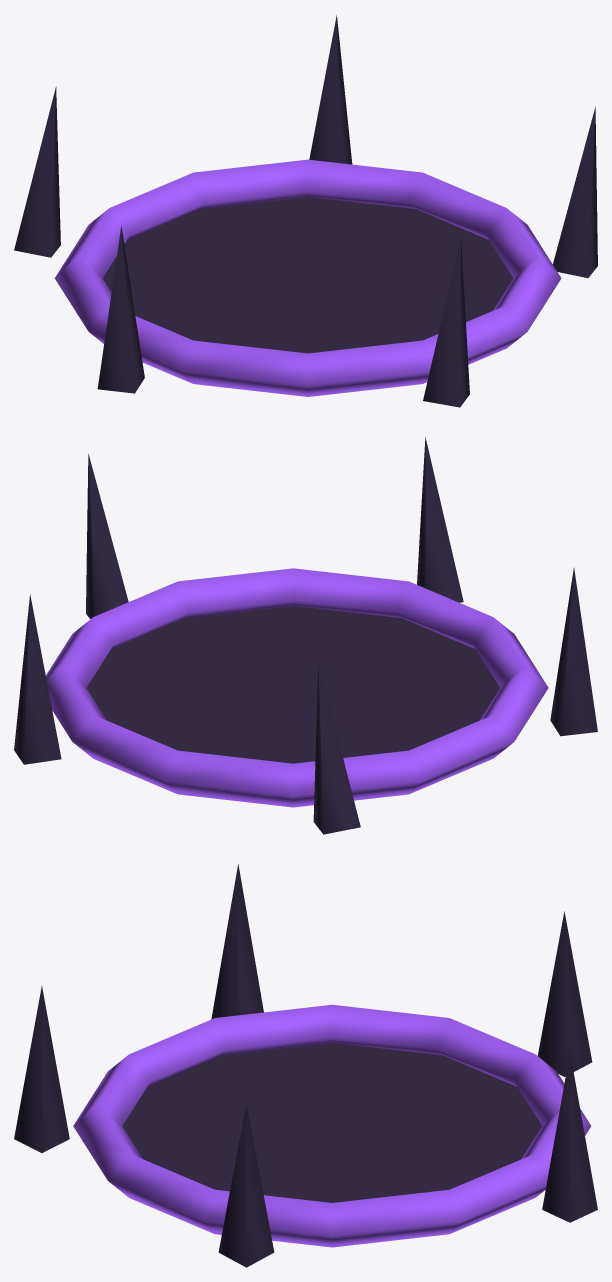
File: portal.glb
3 views of the same model, one above another, from view 1: azimuth 30°, elevation 25°; view 2: azimuth 150°, elevation 25°; view 3: azimuth 270°, elevation 25° (orthographic). The views are drawn at different scales.
Visible parts, largest first — view 1: portal; view 2: portal; view 3: portal.
Part boxes in pixels (left/top/right/bottom): portal: left=14, top=15, right=597, bottom=407; portal: left=14, top=437, right=597, bottom=834; portal: left=14, top=864, right=597, bottom=1267.
Bounding box in the file's own units: 5.11 × 1.6 × 5.01.
Materials: 1 (1 with a texture image).
